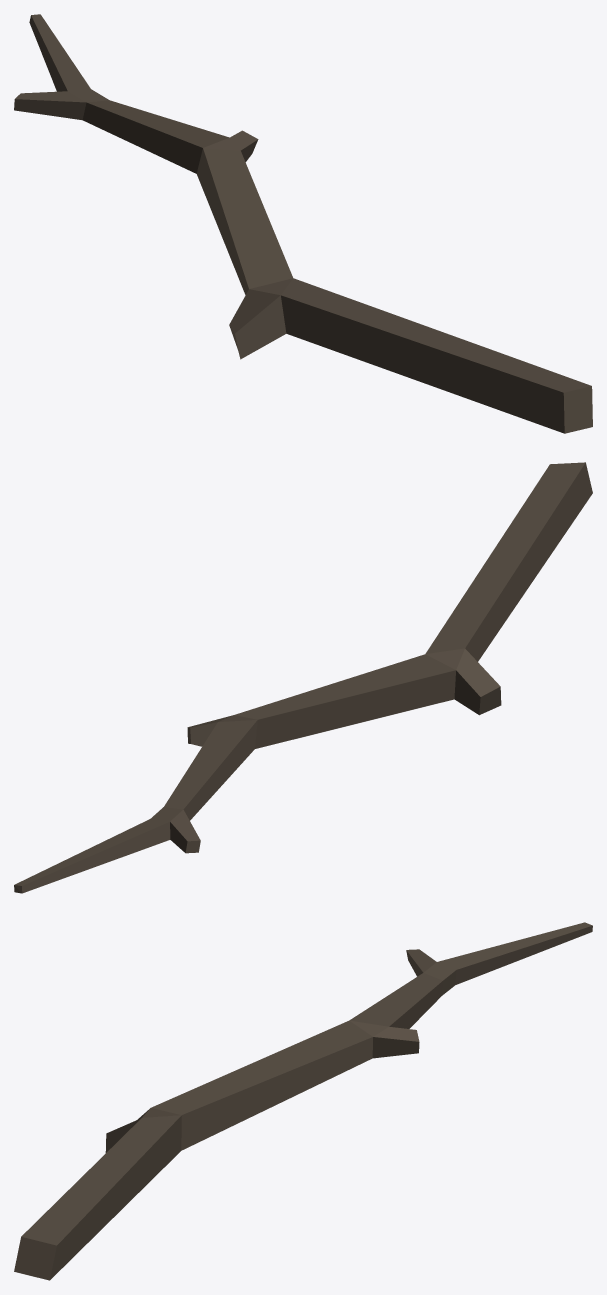
The model's file is SM_Gen_Env_Twig_02.obj.
3 views of the same model, one above another, from view 1: azimuth 30°, elevation 25°; view 2: azimuth 150°, elevation 25°; view 3: azimuth 330°, elevation 25° (orthographic). The views are drawn at different scales.
Parts seen in each view (by area): view 1: SM_Gen_Env_Twig_02_0; view 2: SM_Gen_Env_Twig_02_0; view 3: SM_Gen_Env_Twig_02_0.
Part boxes in pixels (<box>): SM_Gen_Env_Twig_02_0: <box>14,14,592,433</box>; SM_Gen_Env_Twig_02_0: <box>14,462,592,893</box>; SM_Gen_Env_Twig_02_0: <box>14,922,592,1280</box>.
Size of the model in its own units: 0.1627 by 0.0795 by 0.8836.
1 material, 1 textured.
